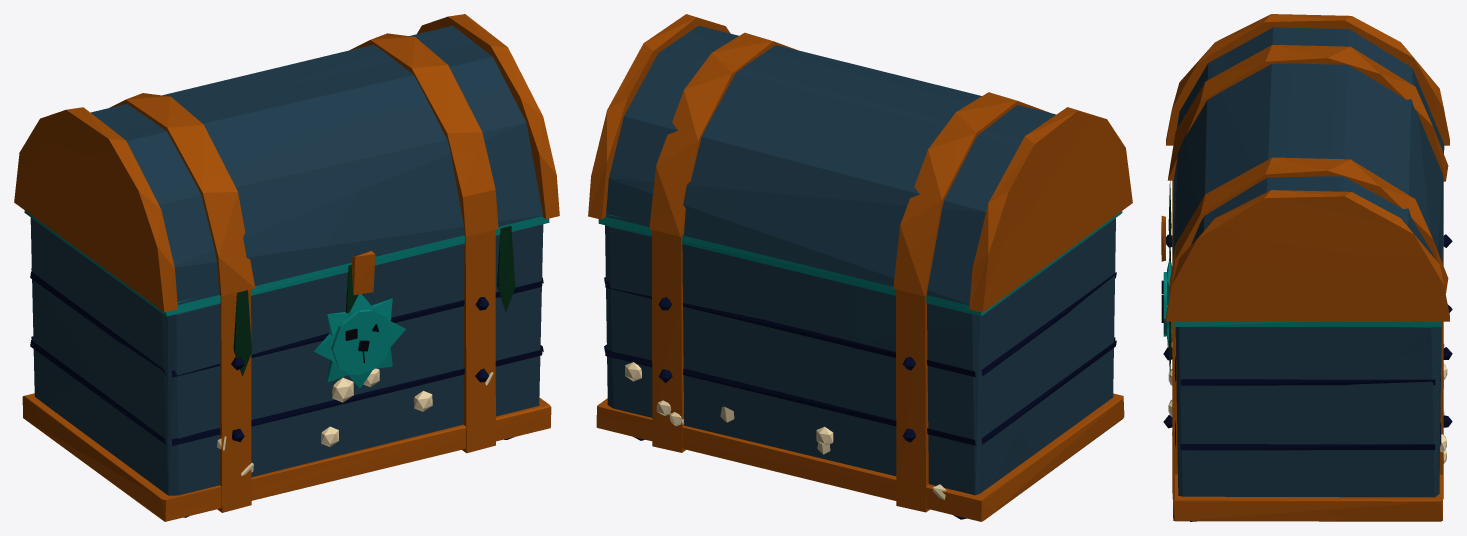
File: tb_chest_sea.three-web-toon.lod50.glb
3 renders of one model, left to right at view 1: azimuth 30°, elevation 25°; view 2: azimuth 150°, elevation 25°; view 3: azimuth 270°, elevation 25°, orthographic. The views are drawn at different scales.
Parts seen in each view (by area): view 1: chest_body_lod, chest_lid_lod; view 2: chest_body_lod, chest_lid_lod; view 3: chest_lid_lod, chest_body_lod.
Part boxes in pixels (<box>): chest_body_lod: <box>22,210,551,521</box>; chest_lid_lod: <box>14,14,559,312</box>; chest_body_lod: <box>596,211,1124,521</box>; chest_lid_lod: <box>588,14,1132,312</box>; chest_lid_lod: <box>1161,14,1449,321</box>; chest_body_lod: <box>1161,180,1452,521</box>.
Size of the model in its own units: 1.6 by 1.4 by 1.08.
